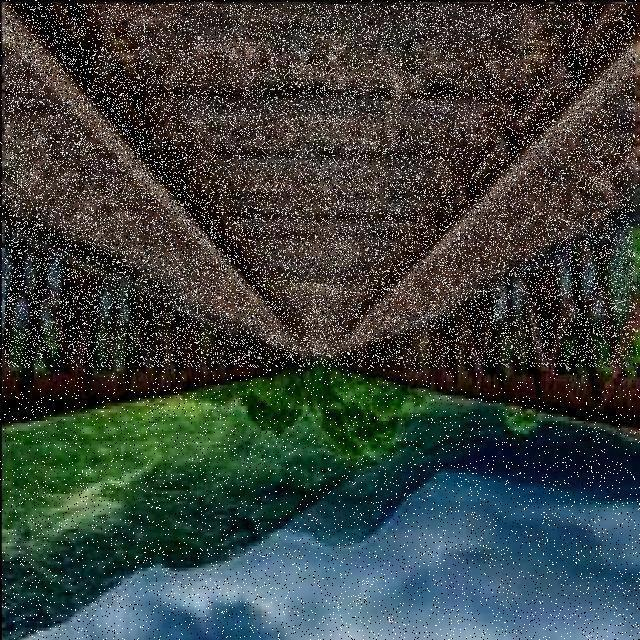rail: (6, 5, 635, 367)
